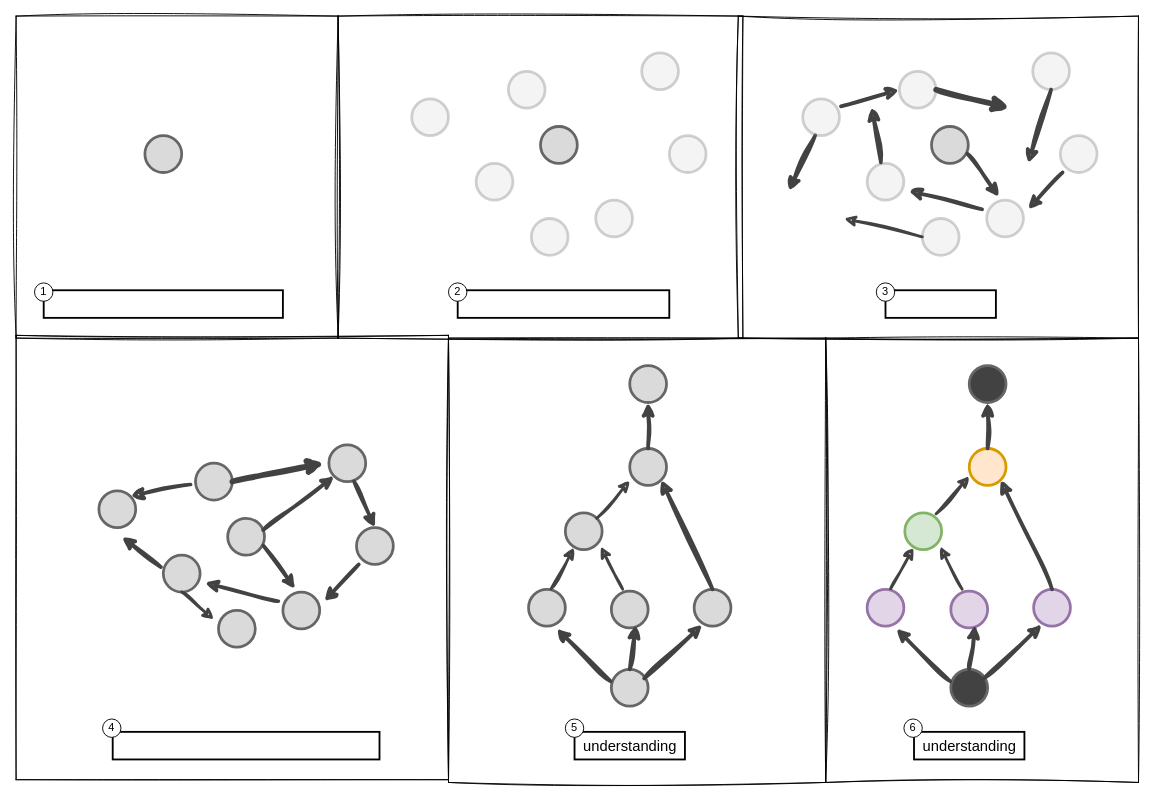
Image size: 1155x799. Some labels were removed from this diagram. Each missing label, with the box of its shape:
before reading problem statement: (42, 289, 283, 318)
figuring out the relation between them: (111, 730, 380, 760)
remembering related entities: (456, 289, 670, 318)
trying to relate: (884, 289, 996, 318)
